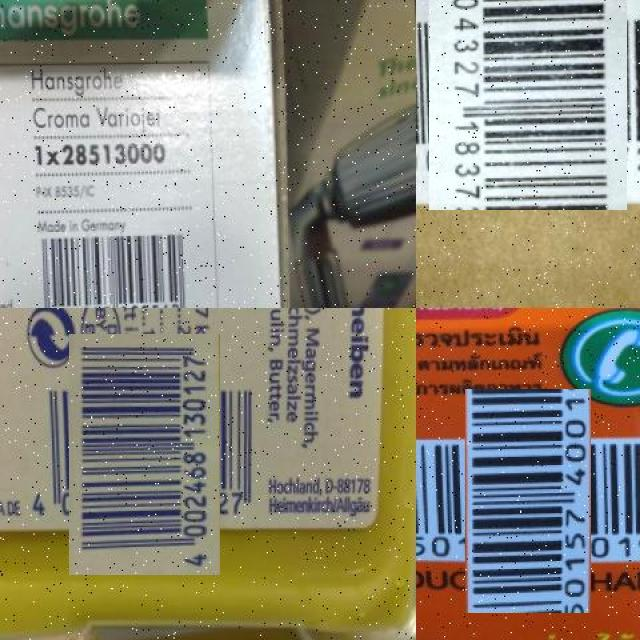Barcode: (422, 0, 633, 205), (46, 356, 243, 553), (440, 413, 616, 588), (22, 235, 202, 308)
